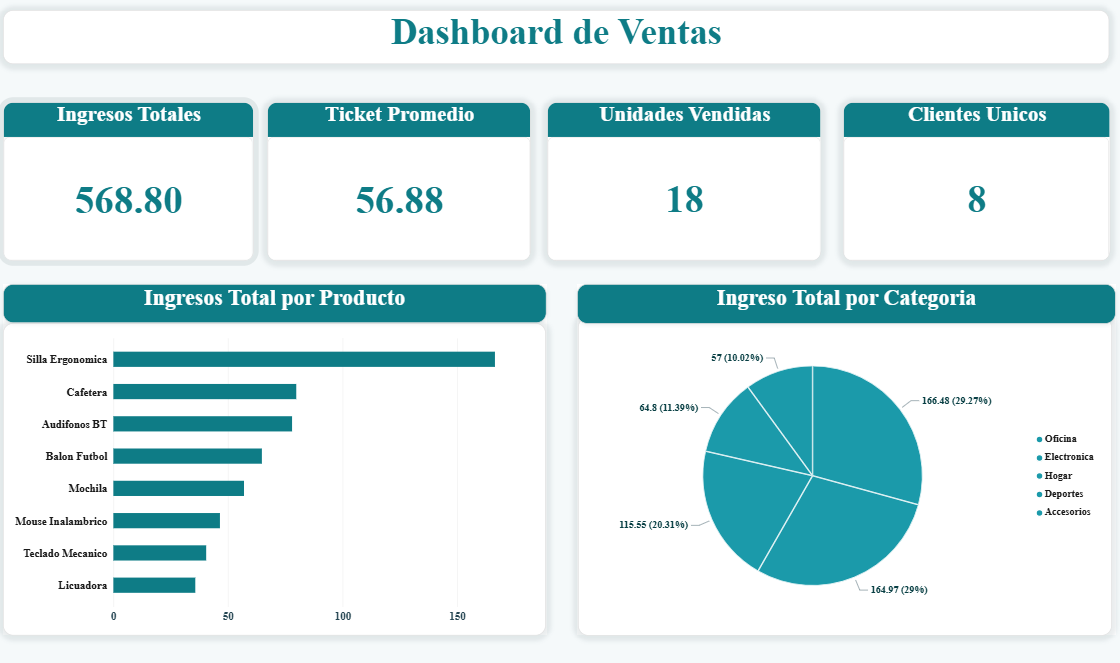

The dashboard page shown, as its layout file describes it:
{"tool":"powerbi","page":{"name":"Resumen","canvas":[1920,1080],"ordinal":0},"visuals":[{"type":"textbox","box":[10.5,25.5,1614.2,79.4],"z":0},{"type":"cardVisual","title":"Ticket Promedio","fields":{"Data":["analisis_ventas vw_ventas_detalle.Ticket Promedio"]},"box":[395.7,158.9,385.2,232.3],"z":1000},{"type":"cardVisual","title":"Ingresos Totales ","fields":{"Data":["analisis_ventas vw_ventas_detalle.Ingresos Totales"]},"box":[10.5,158.9,365.7,232.3],"z":2000},{"type":"cardVisual","title":"Clientes Unicos","fields":{"Data":["analisis_ventas vw_ventas_detalle.Clientes Unicos"]},"box":[1235,158.9,389.7,232.3],"z":3000},{"type":"cardVisual","title":"Unidades Vendidas","fields":{"Data":["analisis_ventas vw_ventas_detalle.Unidades Vendidas"]},"box":[803.4,158.9,400.2,232.3],"z":4000},{"type":"pieChart","fields":{"Category":["analisis_ventas vw_ventas_detalle.categoria"],"Y":["analisis_ventas vw_ventas_detalle.Ingresos Totales"]},"box":[849.8,471.7,779.4,465.1],"z":5000,"group":"g2"},{"type":"barChart","fields":{"Category":["analisis_ventas vw_ventas_detalle.nombre_producto"],"Y":["analisis_ventas vw_ventas_detalle.Ingresos Totales"]},"box":[10.5,481,791.9,455.8],"z":6000,"group":"g1"},{"type":"textbox","box":[10.8,424.2,792.6,57.1],"z":6001,"group":"g1"},{"type":"textbox","box":[847.8,423.9,786.4,58.4],"z":6002,"group":"g2"},{"type":"group","id":"g1","title":"Grupo 1","box":[10.5,424.2,792.9,512.6],"z":6003},{"type":"group","id":"g2","title":"Grupo 2","box":[847.8,423.9,786.4,512.8],"z":6004}]}

Visuals, with their boxes on the page's 1920x1080 design canvas (x1, y1, x2, y2). These are canvas units, not pixel positions in the 1120x663 screenshot, which may show the page scaled, cropped or inside an application window:
textbox: [10, 26, 1625, 105]
"Ticket Promedio" cardVisual: [396, 159, 781, 391]
"Ingresos Totales " cardVisual: [10, 159, 376, 391]
"Clientes Unicos" cardVisual: [1235, 159, 1625, 391]
"Unidades Vendidas" cardVisual: [803, 159, 1204, 391]
pieChart - analisis_ventas vw_ventas_detalle.categoria x analisis_ventas vw_ventas_detalle.Ingresos Totales: [850, 472, 1629, 937]
barChart - analisis_ventas vw_ventas_detalle.nombre_producto x analisis_ventas vw_ventas_detalle.Ingresos Totales: [10, 481, 802, 937]
textbox: [11, 424, 803, 481]
textbox: [848, 424, 1634, 482]
"Grupo 1" group: [10, 424, 803, 937]
"Grupo 2" group: [848, 424, 1634, 937]
